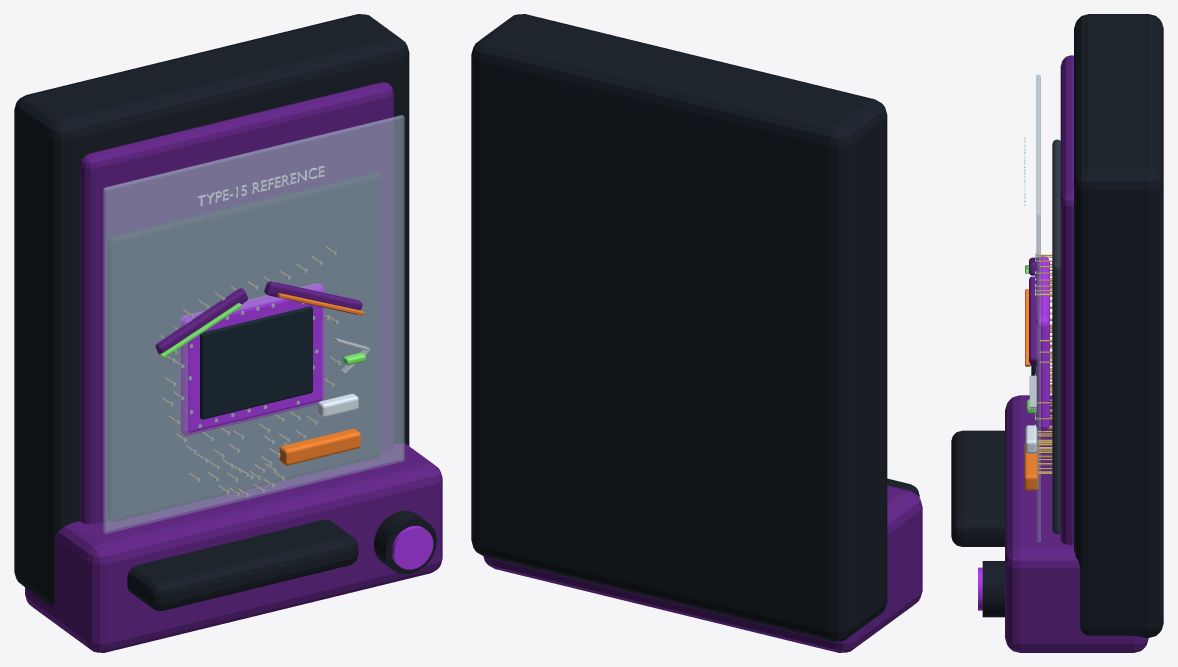
The model's file is eva15_reference_cabinet_blender.glb.
3 views of the same model, side by side, from view 1: azimuth 30°, elevation 25°; view 2: azimuth 150°, elevation 25°; view 3: azimuth 270°, elevation 25° (orthographic). The views are drawn at different scales.
Parts seen in each view (by area): view 1: Glass, Cabinet, Playfield board, Violet inner frame, Lower console, Ball tray, Center display front, Center bezel, Attacker, Launch handle, Handle violet ring, Upper armor left (+4 smaller); view 2: Cabinet, Lower console; view 3: Cabinet, Lower console, Violet inner frame, Ball tray, Playfield board, Glass, Center bezel, Launch handle, Upper armor right, Attacker, Electric support.
Boxes of the visible parts, <box> form: Glass: <box>103,115,404,533</box>; Cabinet: <box>14,14,409,605</box>; Playfield board: <box>107,172,380,521</box>; Violet inner frame: <box>80,82,393,524</box>; Lower console: <box>25,443,442,652</box>; Ball tray: <box>127,519,358,610</box>; Center display front: <box>200,306,312,419</box>; Center bezel: <box>179,283,324,435</box>; Attacker: <box>279,429,360,465</box>; Launch handle: <box>374,510,436,574</box>; Handle violet ring: <box>391,526,433,569</box>; Upper armor left: <box>155,288,247,354</box>; Cabinet: <box>471,14,887,641</box>; Lower console: <box>483,485,922,652</box>; Cabinet: <box>1074,14,1163,637</box>; Lower console: <box>1005,395,1148,652</box>; Violet inner frame: <box>1060,55,1073,544</box>; Ball tray: <box>951,430,1004,546</box>; Playfield board: <box>1052,139,1060,534</box>; Glass: <box>1036,74,1040,541</box>; Center bezel: <box>1035,256,1049,431</box>; Launch handle: <box>982,561,1004,617</box>; Upper armor right: <box>1029,276,1039,365</box>; Attacker: <box>1024,443,1038,490</box>; Electric support: <box>1025,425,1037,453</box>.
Bounding box in the file's own units: 0.66 × 0.89 × 0.355.
